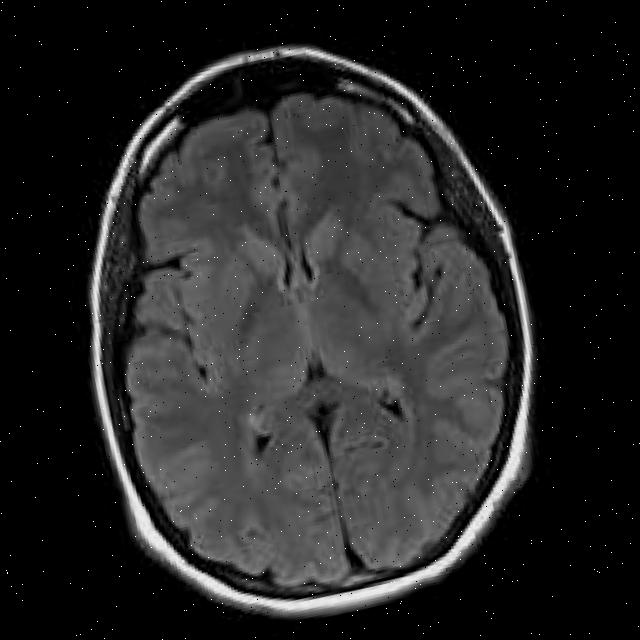NoTumor: (45, 46, 574, 632)
